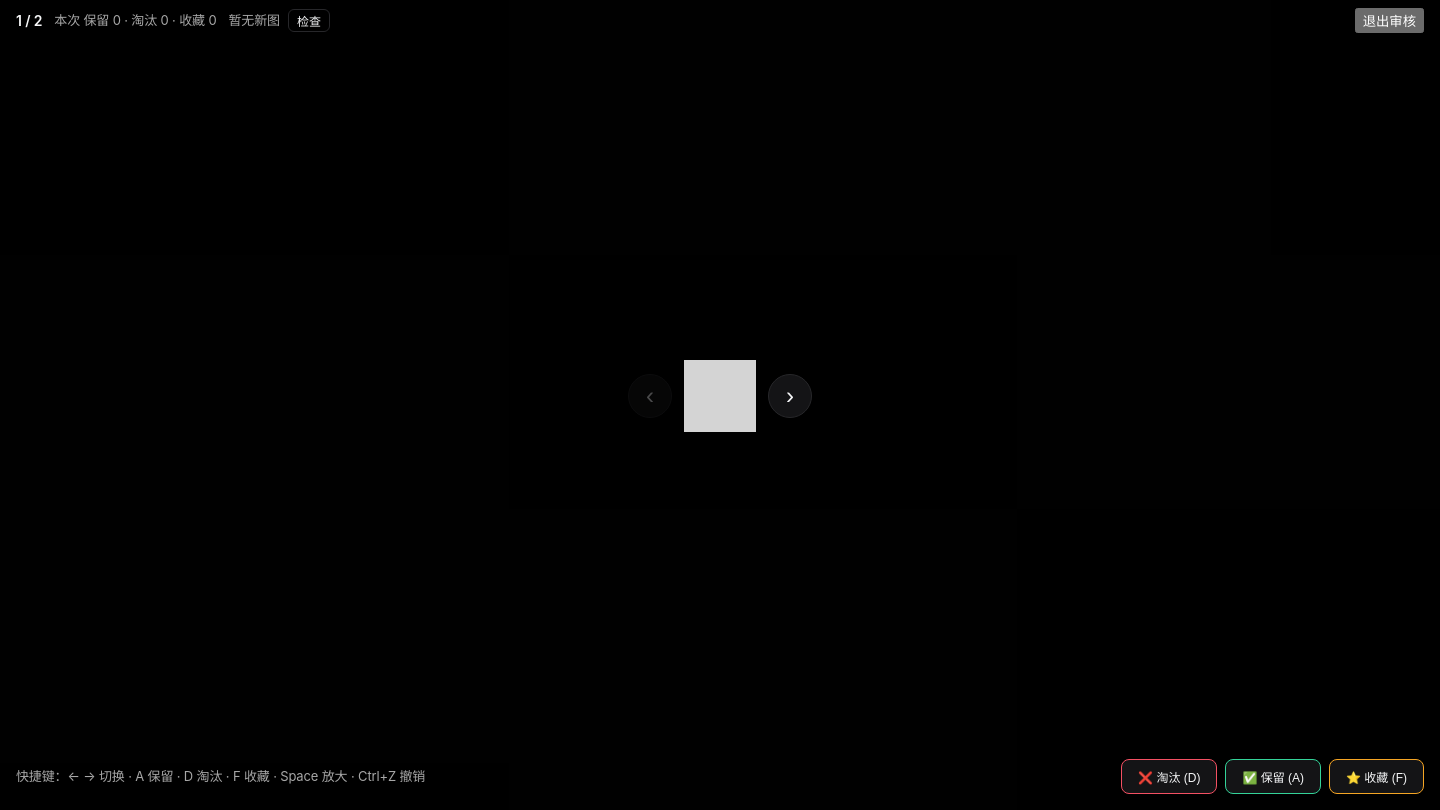
Test case: ReviewMode 冻结会话适配器（/api/v1/review/*） › 409 REVIEW_CONFLICT → 用权威 Image 重同步，不前进、不误计数
Check: the text "1 / 2" is shown, box [16,11,42,30]
Click the button "✅ 保留 (A)" at (1273, 776), box [1225,759,1321,794]
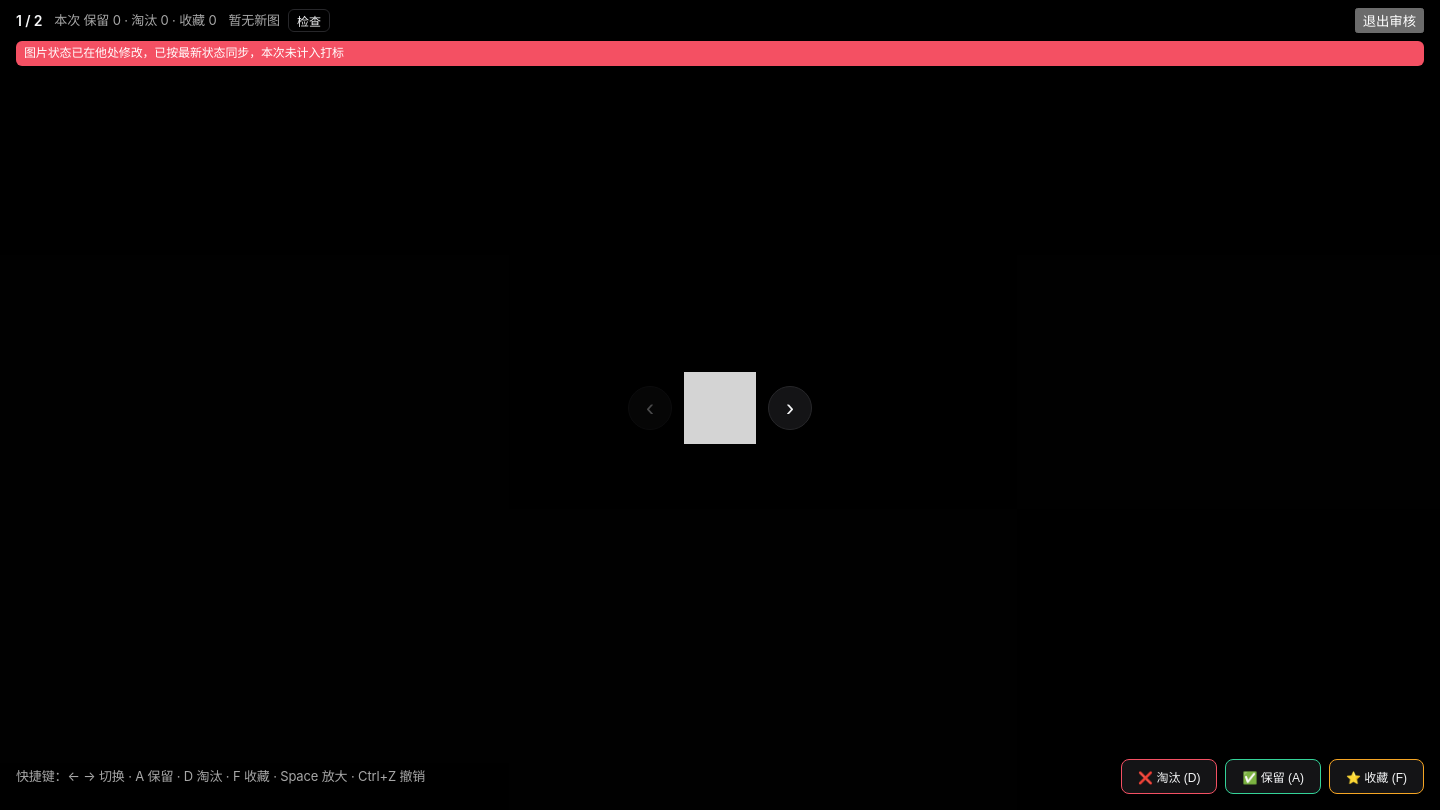
Check: the text "1 / 2" is shown, box [16,11,42,30]
Check: the text "图片状态已在他处修改，已按最新状态同步，本次未计入打标" is shown, box [16,41,1424,66]
